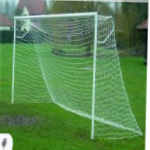goals: (10, 11, 143, 139)
